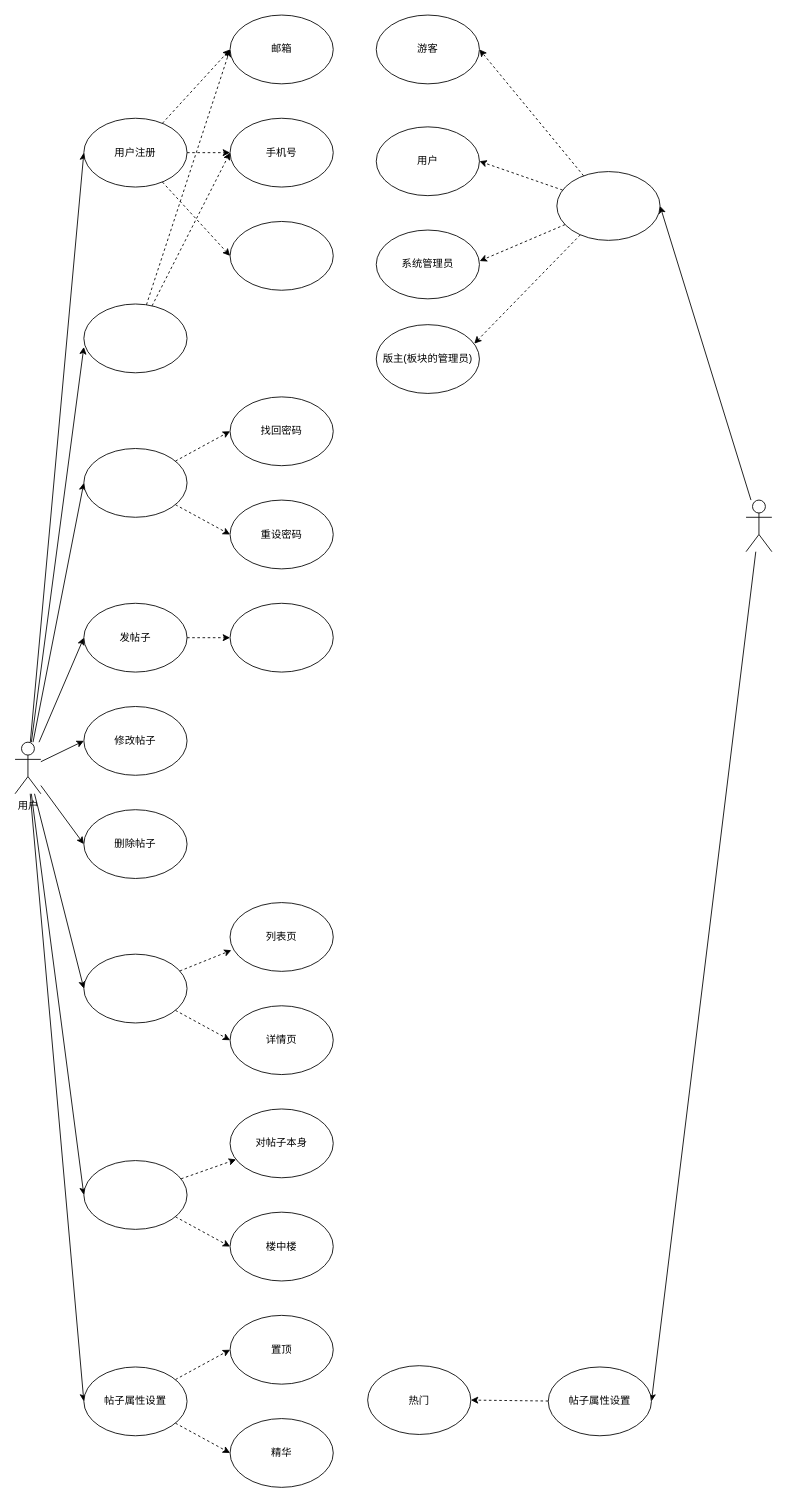
The diagram is 789 pixels wide and 1502 high, and some of its shapes have lost their labels. Each missing label, with the centre of its shape:
"Admin" belongs at point (758, 525).
"回复帖子" belongs at point (135, 1194).
"密码强度检验" belongs at point (281, 255).
"密码管理" belongs at point (135, 482).
"富文本编辑" belongs at point (281, 637).
"帖子浏览" belongs at point (135, 988).
"权限管理" belongs at point (608, 205).
"用户登录" belongs at point (135, 338).
